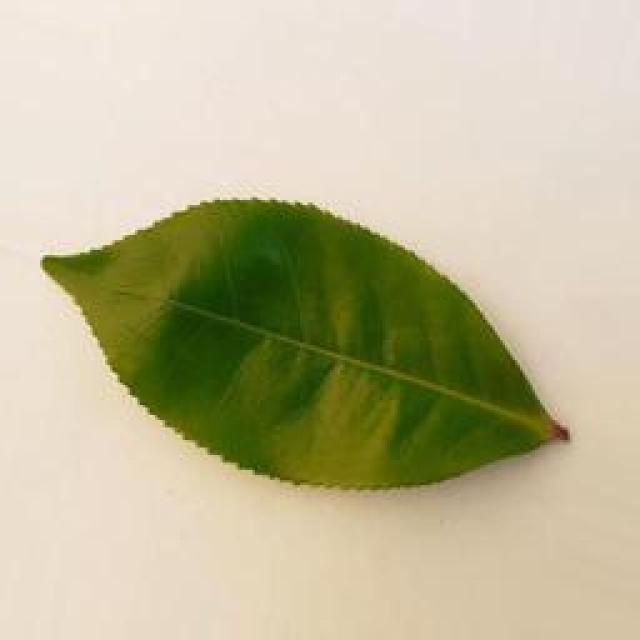Healthy: (31, 183, 578, 500)
